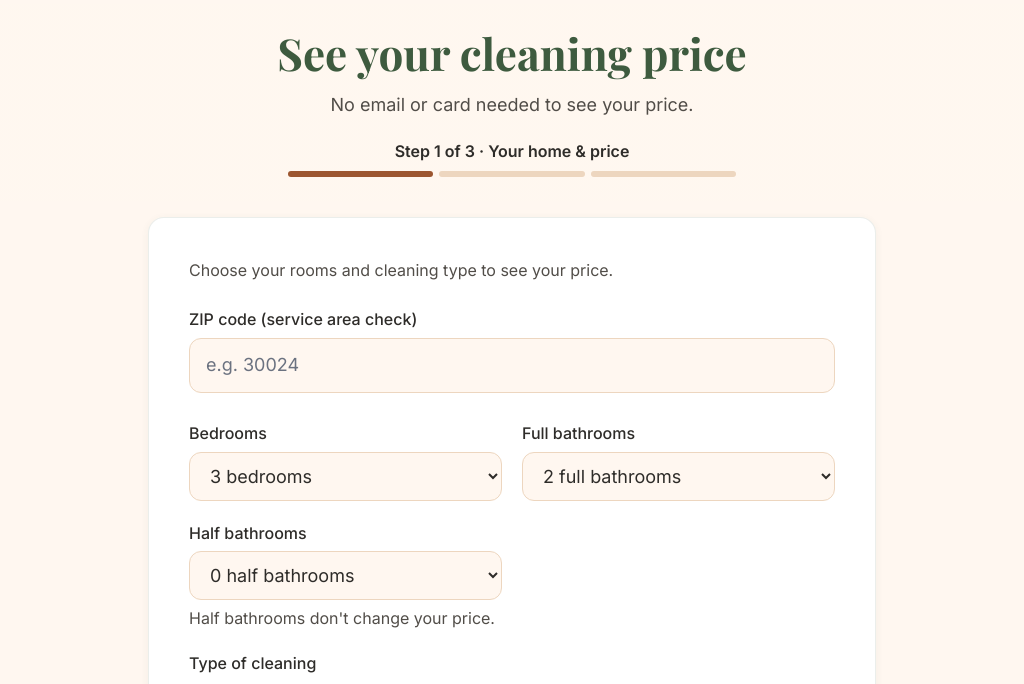
Test: fix7 — UX audit fixes › step 2: Notes warns against door codes
This screenshot has width=1024, height=684.
Type "30024" into the field labelled "ZIP code (service area check)" at (512, 365), box [189, 338, 835, 393]
(page scrolled)
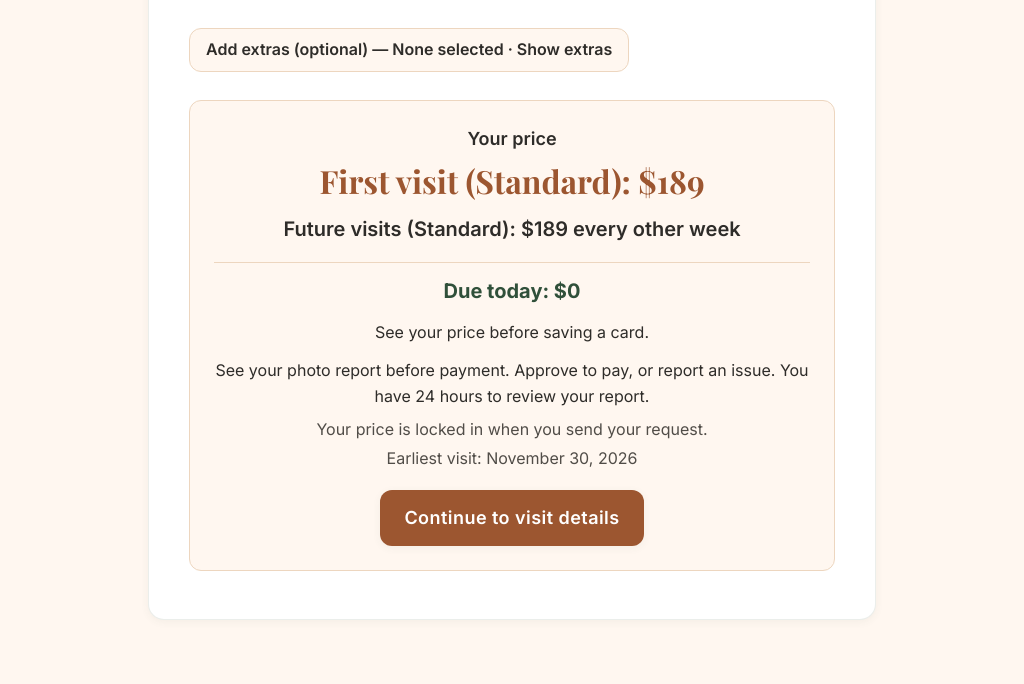
Click the button "Continue to visit details" at (512, 518), box [380, 490, 644, 546]
(page scrolled)
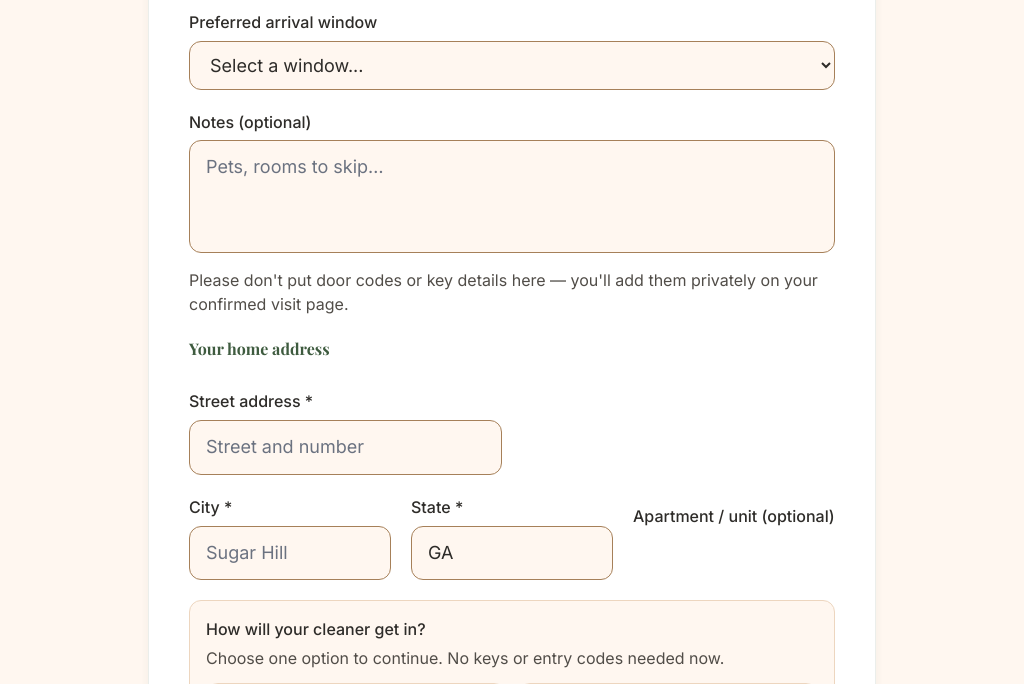
Expected: the text "Please don't put door codes or key details here — you'll add them privately on your confirmed visit page." is shown, [189, 270, 818, 314]
